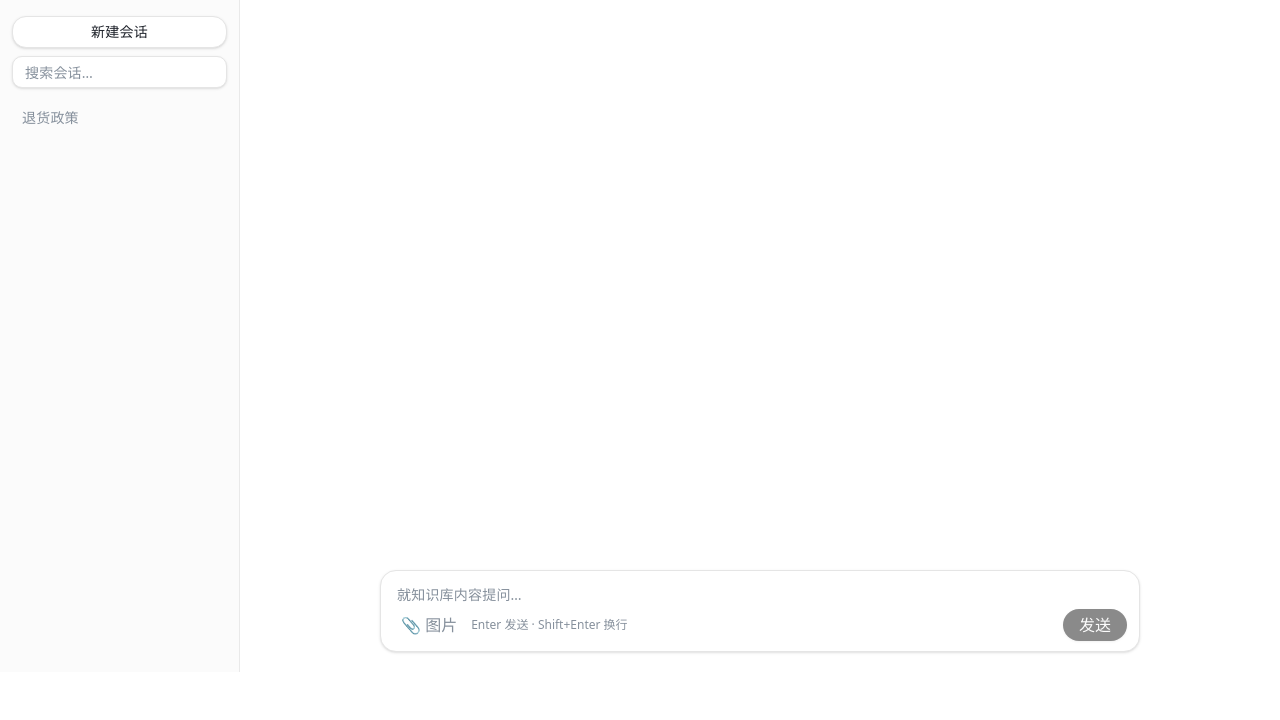
Scenario: 连续的同源引用合并成一个角标 1-3
Type "退货时效" into the text box labelled "提问" at (760, 588), box left=381, top=571, right=1139, bottom=605
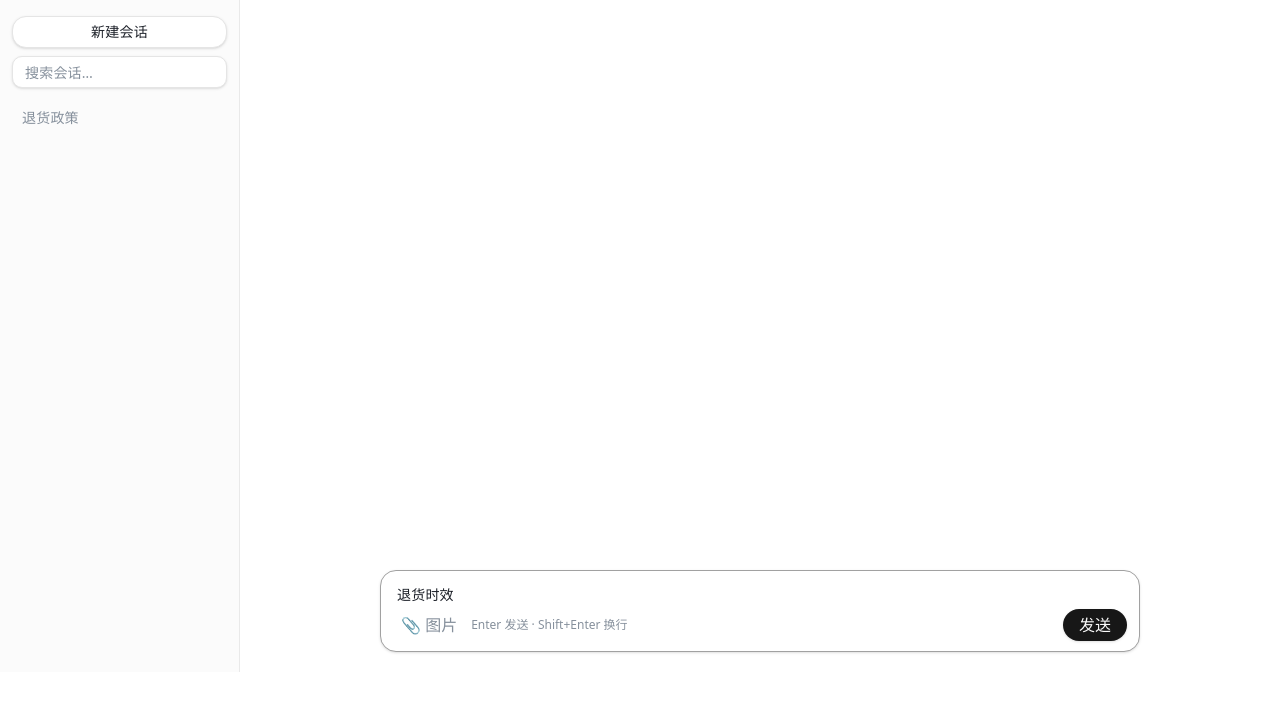
Click the button "发送" at (1095, 625), box left=1063, top=609, right=1127, bottom=641
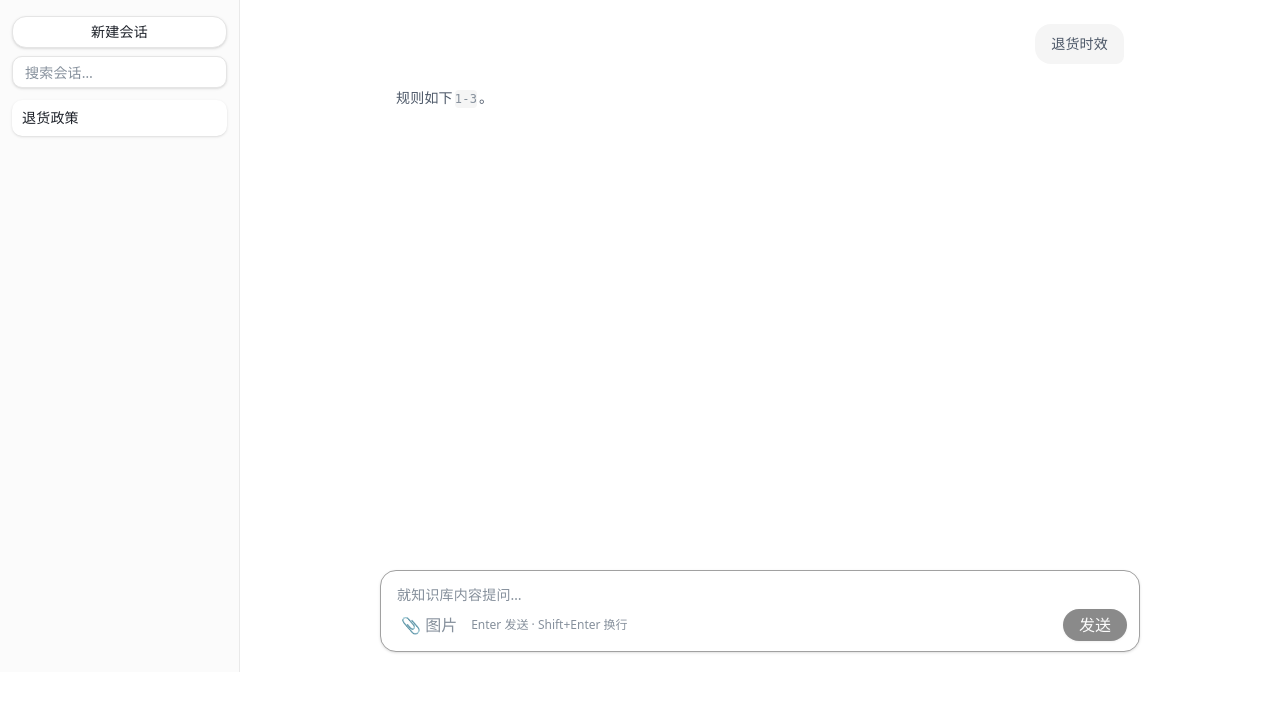
expect the button named "引用 1-3：退货规则.txt" reads "1-3": met, box left=455, top=90, right=477, bottom=108
expect the number of buttons named "引用 " is 1: met, box left=455, top=90, right=477, bottom=108
